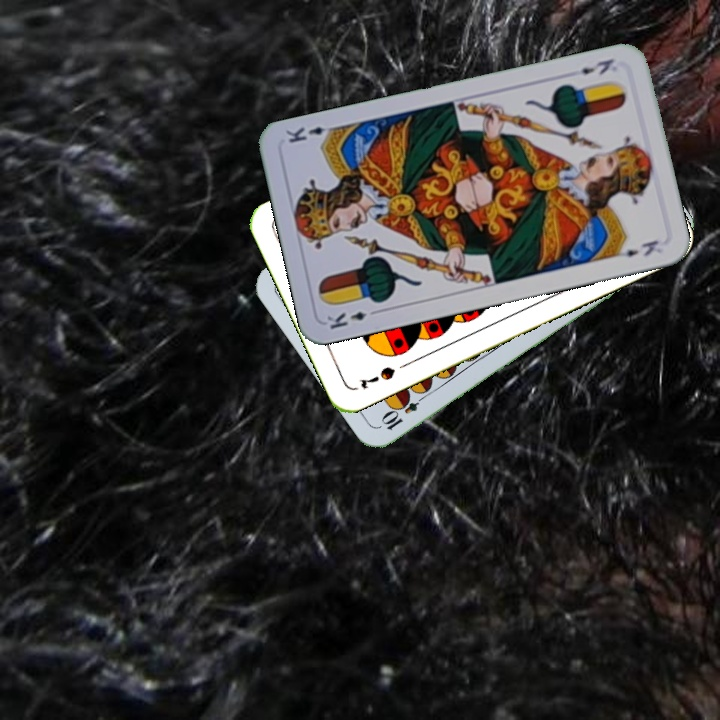E10: (378, 388, 430, 433)
EK: (322, 305, 382, 332), (576, 54, 617, 78)
S7: (354, 362, 398, 392)
